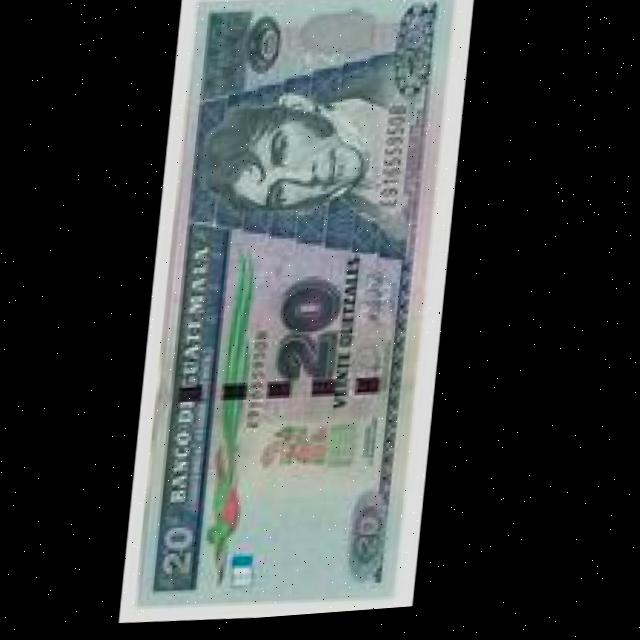banknote: (139, 0, 457, 629)
